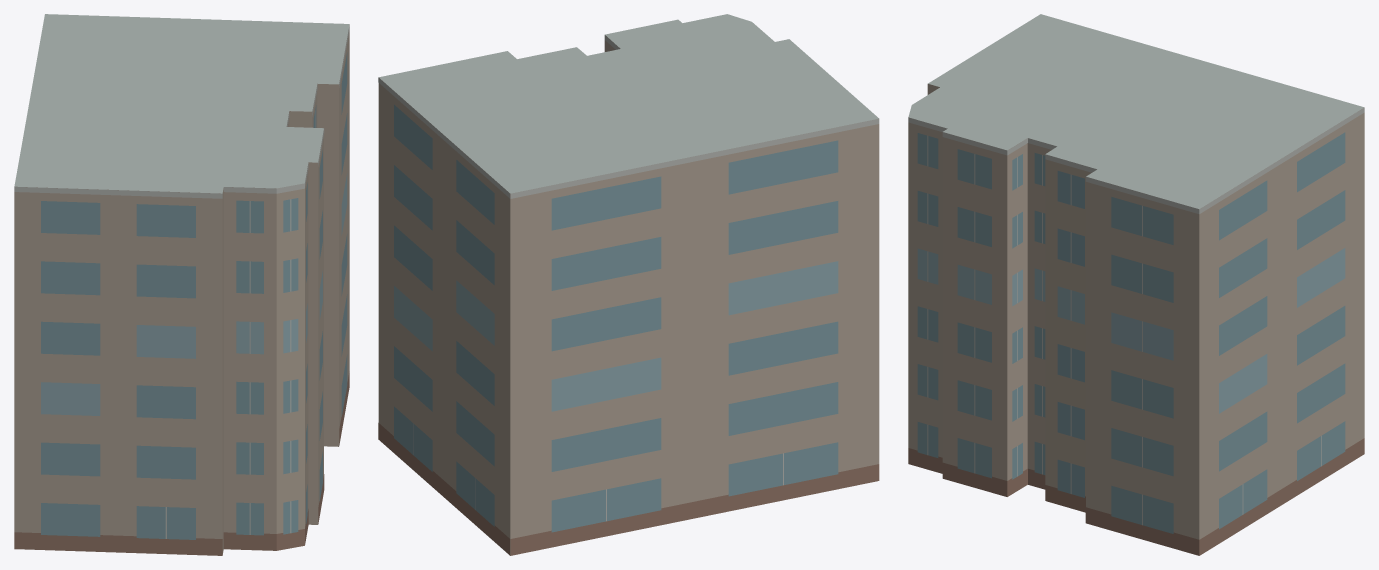
Rendered from survey-upis-33000297.glb.
3 views of the same model, side by side, from view 1: azimuth 30°, elevation 25°; view 2: azimuth 150°, elevation 25°; view 3: azimuth 270°, elevation 25° (orthographic). The views are drawn at different scales.
Parts seen in each view (by area): view 1: survey-upis-33000297.tmp; view 2: survey-upis-33000297.tmp; view 3: survey-upis-33000297.tmp.
Part boxes in pixels (<box>): survey-upis-33000297.tmp: <box>14,14,349,555</box>; survey-upis-33000297.tmp: <box>378,14,879,555</box>; survey-upis-33000297.tmp: <box>908,14,1364,555</box>.
Bounding box in the file's own units: 20.18 × 16.7 × 19.93.
